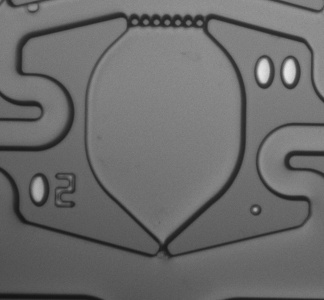AptNum: (244, 50, 306, 95)
Marker: (241, 196, 271, 223)
StNum: (20, 164, 82, 214)
